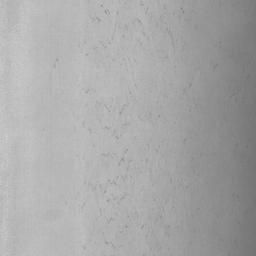Silk spot: (84, 149, 152, 204), (132, 1, 184, 49), (120, 198, 170, 237), (79, 24, 128, 56), (95, 96, 136, 115), (88, 5, 119, 24), (103, 123, 129, 139)
